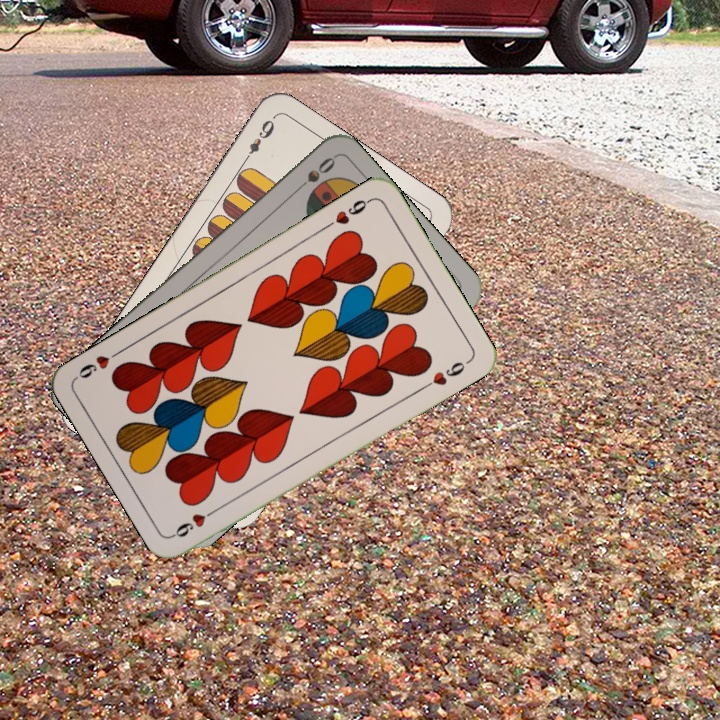E9: (239, 113, 278, 166)
H9: (321, 194, 375, 231), (169, 503, 223, 540)
SO: (289, 153, 338, 197)
